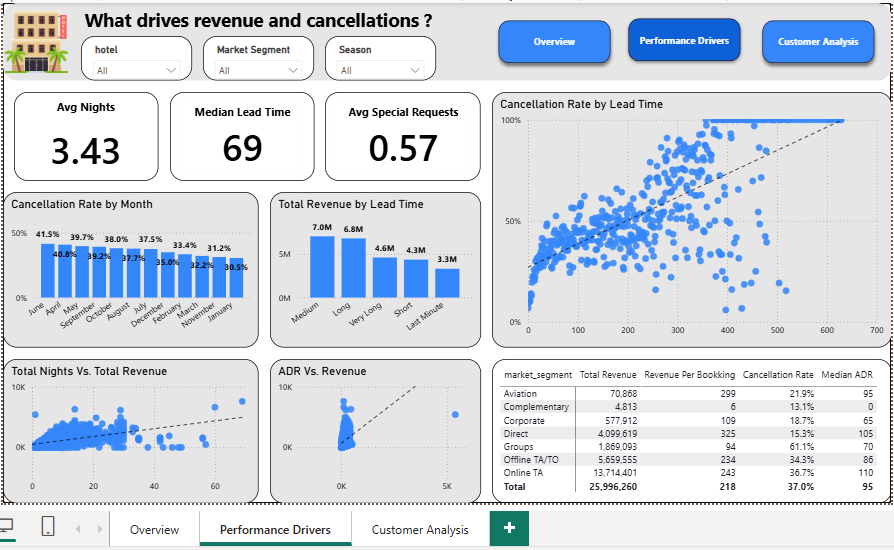

Layout of this report page (visuals, bound fields, positions):
{"tool":"powerbi","page":{"name":"Performance Drivers","canvas":[1280,720],"ordinal":1},"visuals":[{"type":"shape","box":[0,0,1280,112],"z":0},{"type":"textbox","box":[112,0,560,64],"z":1000},{"type":"scatterChart","title":"Cancellation Rate by Lead Time","fields":{"Y":["_Measures.Cancellation Rate"],"X":["Fact_Bookings.lead_time"]},"box":[704,128,576,368],"z":2000},{"type":"pivotTable","fields":{"Values":["_Measures.Total Revenue","_Measures.Revenue Per Bookking","_Measures.Cancellation Rate","_Measures.Median ADR"],"Rows":["Dim_MarketSegment.market_segment"]},"box":[704,512,576,208],"z":3000},{"type":"scatterChart","title":"Total Nights Vs. Total Revenue","fields":{"X":["Fact_Bookings.Total Nights "],"Y":["Fact_Bookings.Total Revenue"]},"box":[0,512,368,208],"z":4000},{"type":"cardVisual","title":"Total Revenue","fields":{"Data":["Avg(Fact_Bookings.Total Nights )"]},"box":[16,128,208,128],"z":5000},{"type":"cardVisual","title":"Total Revenue","fields":{"Data":["Avg(Fact_Bookings.total_of_special_requests)"]},"box":[464,128,224,128],"z":6000},{"type":"cardVisual","title":"Total Revenue","fields":{"Data":["_Measures.Median Lead Time"]},"box":[240,128,208,128],"z":7000},{"type":"slicer","fields":{"Values":["Dim_Date.Season"]},"box":[464,48,160,64],"z":8000},{"type":"slicer","fields":{"Values":["Dim_Hotel.hotel"]},"box":[112,48,160,64],"z":9000},{"type":"slicer","fields":{"Values":["Fact_Bookings.Lead_Time_Bucket"]},"box":[288,48,160,64],"z":10000},{"type":"scatterChart","title":"ADR Vs. Revenue","fields":{"X":["Fact_Bookings.adr"],"Y":["Fact_Bookings.Total Revenue"]},"box":[384,512,304,208],"z":11000},{"type":"columnChart","title":"Total Revenue by Lead Time","fields":{"Category":["Fact_Bookings.Lead_Time_Bucket"],"Y":["_Measures.Total Revenue"]},"box":[384,272,304,224],"z":12000},{"type":"columnChart","title":"Cancellation Rate by Month","fields":{"Category":["Dim_Date.Month"],"Y":["_Measures.Cancellation Rate"]},"box":[0,272,368,224],"z":13000},{"type":"pageNavigator","box":[704,16,560,80],"z":14000},{"type":"image","box":[0,0,96,112],"z":15000}]}

Visuals, with their boxes on the page's 1280x720 design canvas (x1, y1, x2, y2). These are canvas units, not pixel positions in the 894x550 screenshot, which may show the page scaled, cropped or inside an application window:
shape: bbox(0, 0, 1280, 112)
textbox: bbox(112, 0, 672, 64)
"Cancellation Rate by Lead Time" scatterChart: bbox(704, 128, 1280, 496)
pivotTable - _Measures.Total Revenue x _Measures.Revenue Per Bookking: bbox(704, 512, 1280, 720)
"Total Nights Vs. Total Revenue" scatterChart: bbox(0, 512, 368, 720)
"Total Revenue" cardVisual: bbox(16, 128, 224, 256)
"Total Revenue" cardVisual: bbox(464, 128, 688, 256)
"Total Revenue" cardVisual: bbox(240, 128, 448, 256)
slicer - Dim_Date.Season: bbox(464, 48, 624, 112)
slicer - Dim_Hotel.hotel: bbox(112, 48, 272, 112)
slicer - Fact_Bookings.Lead_Time_Bucket: bbox(288, 48, 448, 112)
"ADR Vs. Revenue" scatterChart: bbox(384, 512, 688, 720)
"Total Revenue by Lead Time" columnChart: bbox(384, 272, 688, 496)
"Cancellation Rate by Month" columnChart: bbox(0, 272, 368, 496)
pageNavigator: bbox(704, 16, 1264, 96)
image: bbox(0, 0, 96, 112)
